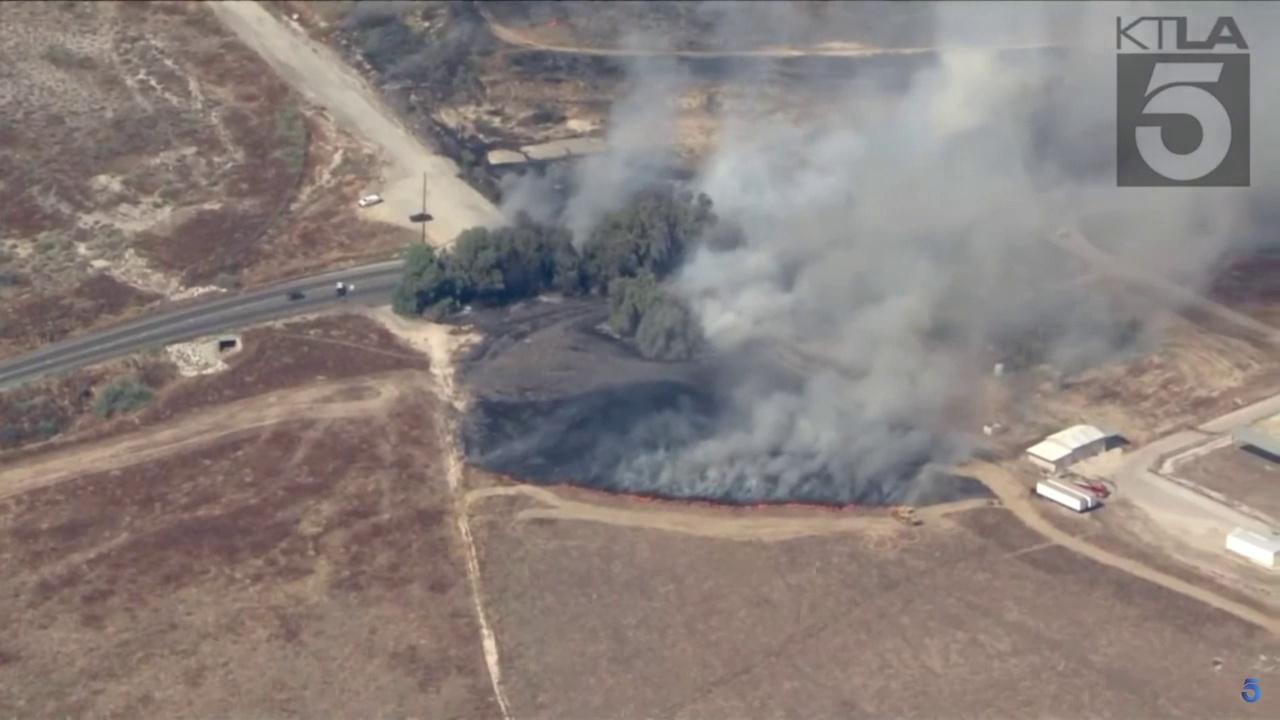fire: (558, 483, 854, 510)
smoke: (481, 3, 1280, 508)
